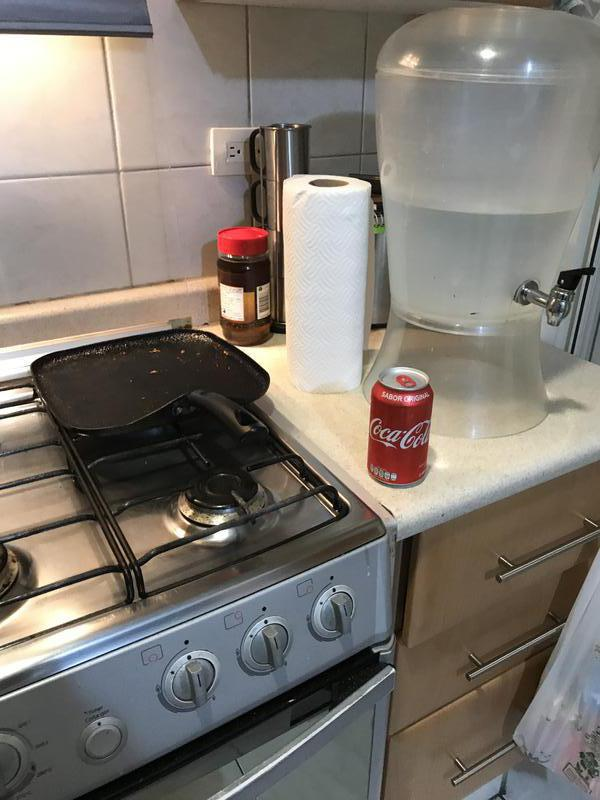coca_cola: (369, 368, 432, 487)
